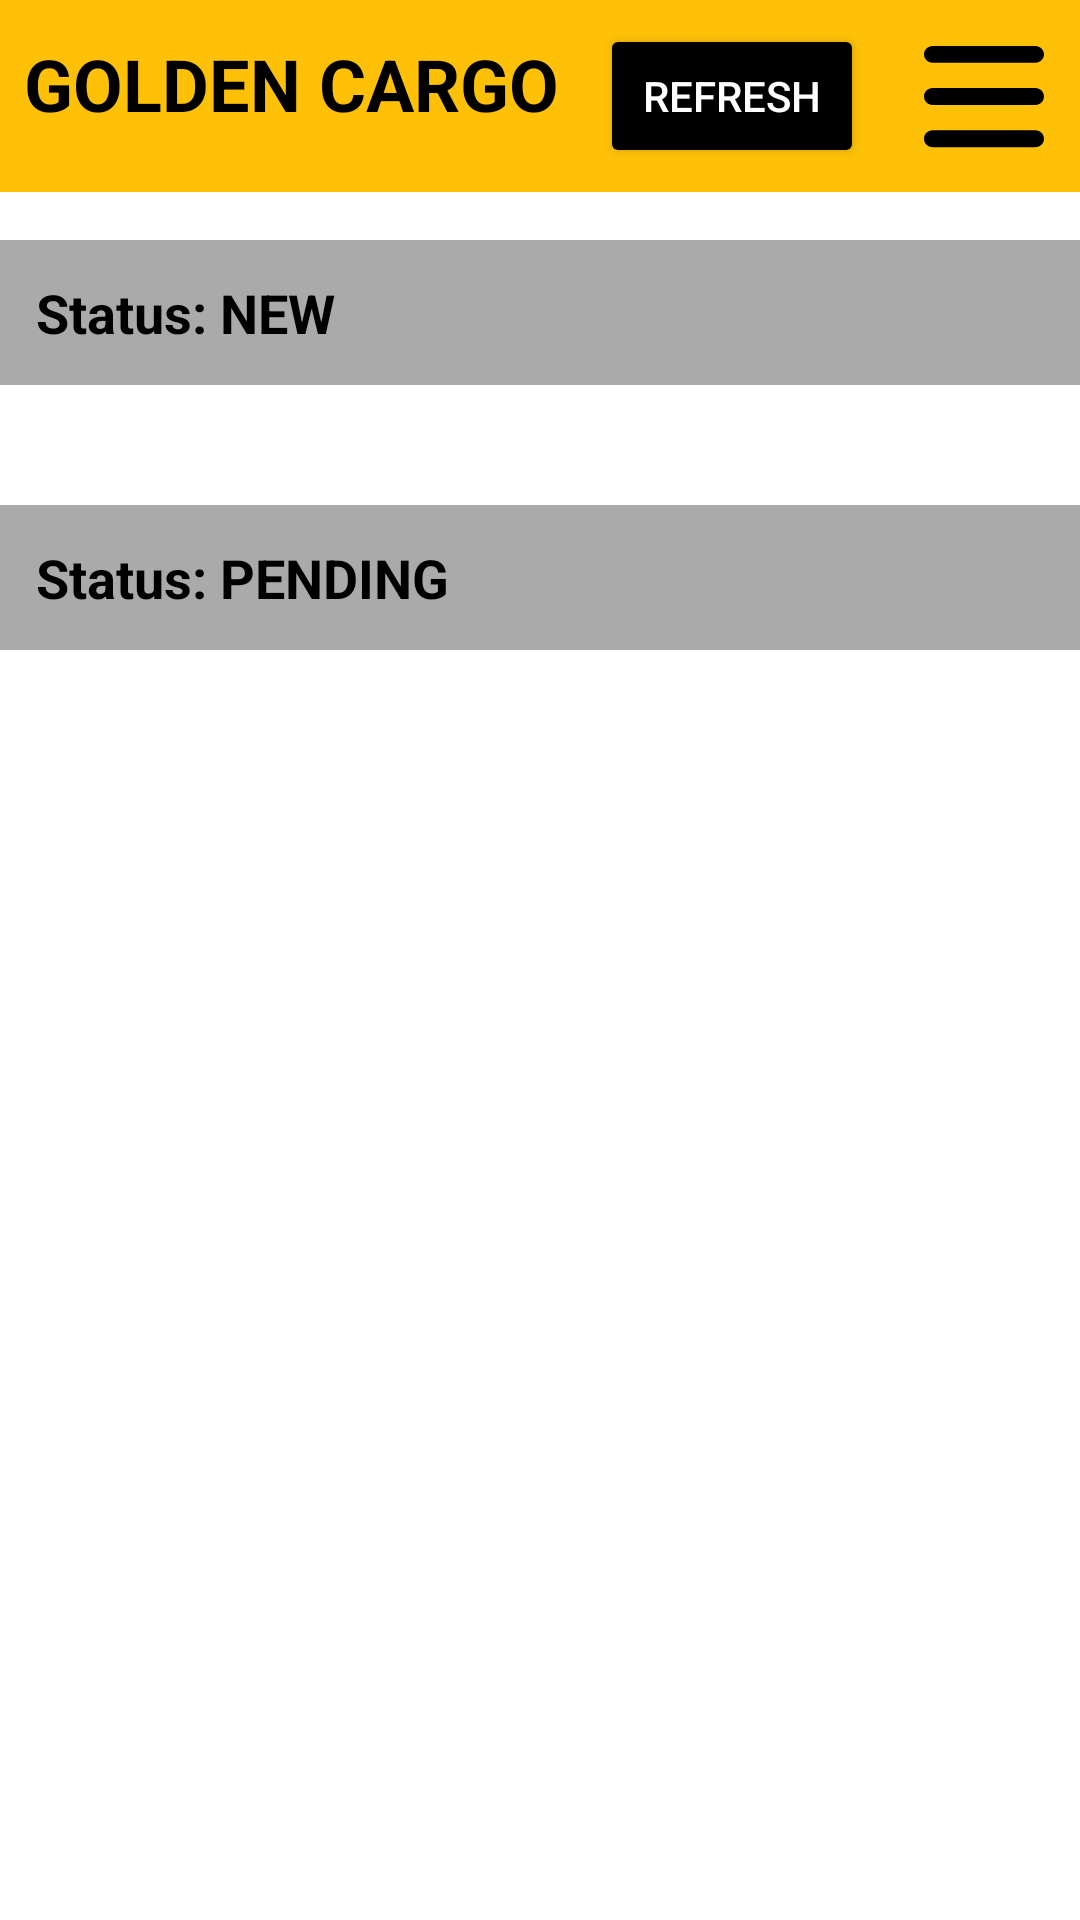

Icons on this 1080 x 1920 Android screen, each with the point to tap as point (x, y):
Menu: point (984, 97)
